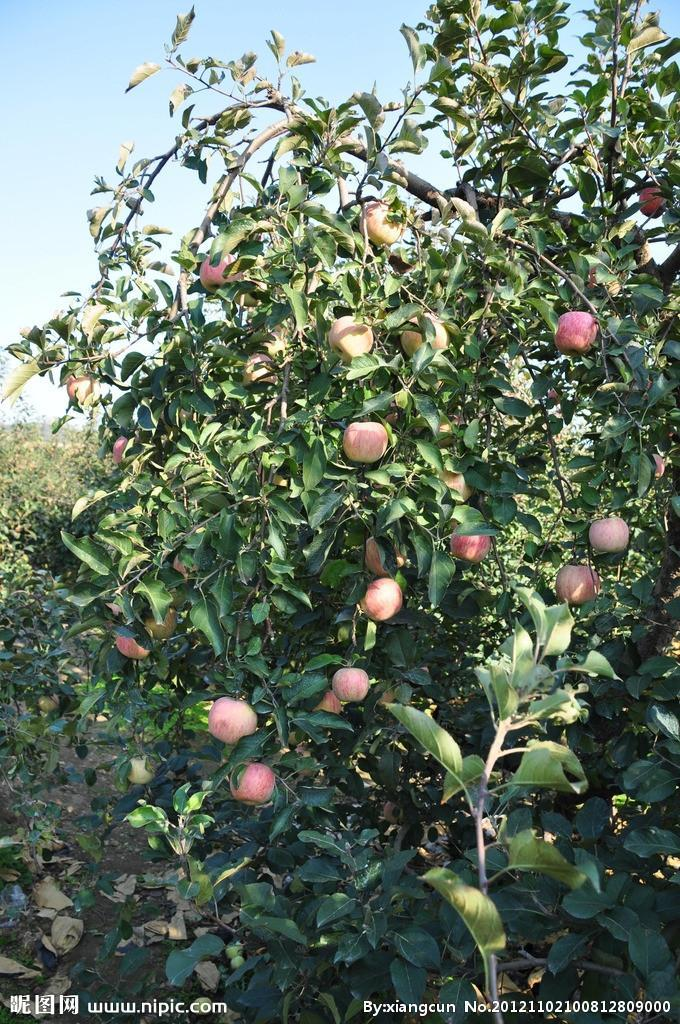apple: (209, 696, 256, 742), (341, 422, 389, 463), (556, 311, 600, 350), (235, 762, 273, 802)
